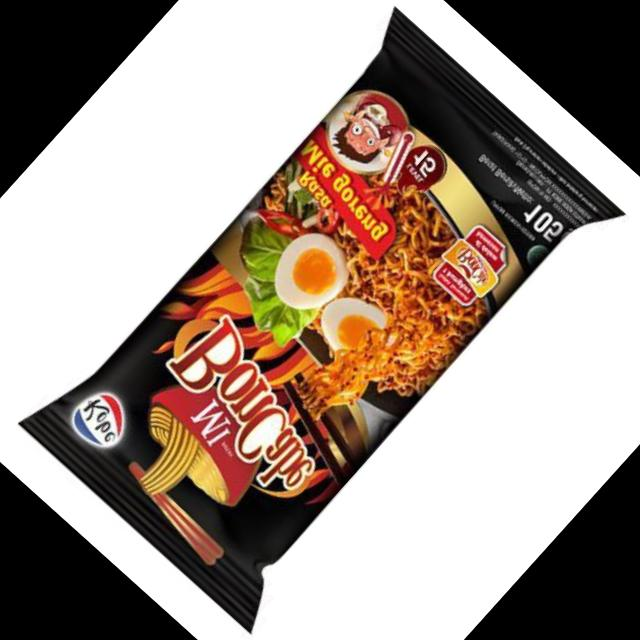KemasanPlastik: (1, 0, 634, 640)
